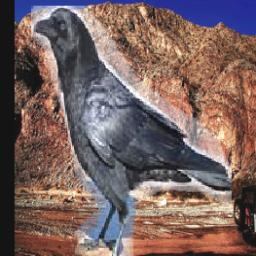Crow: (31, 6, 232, 256)
